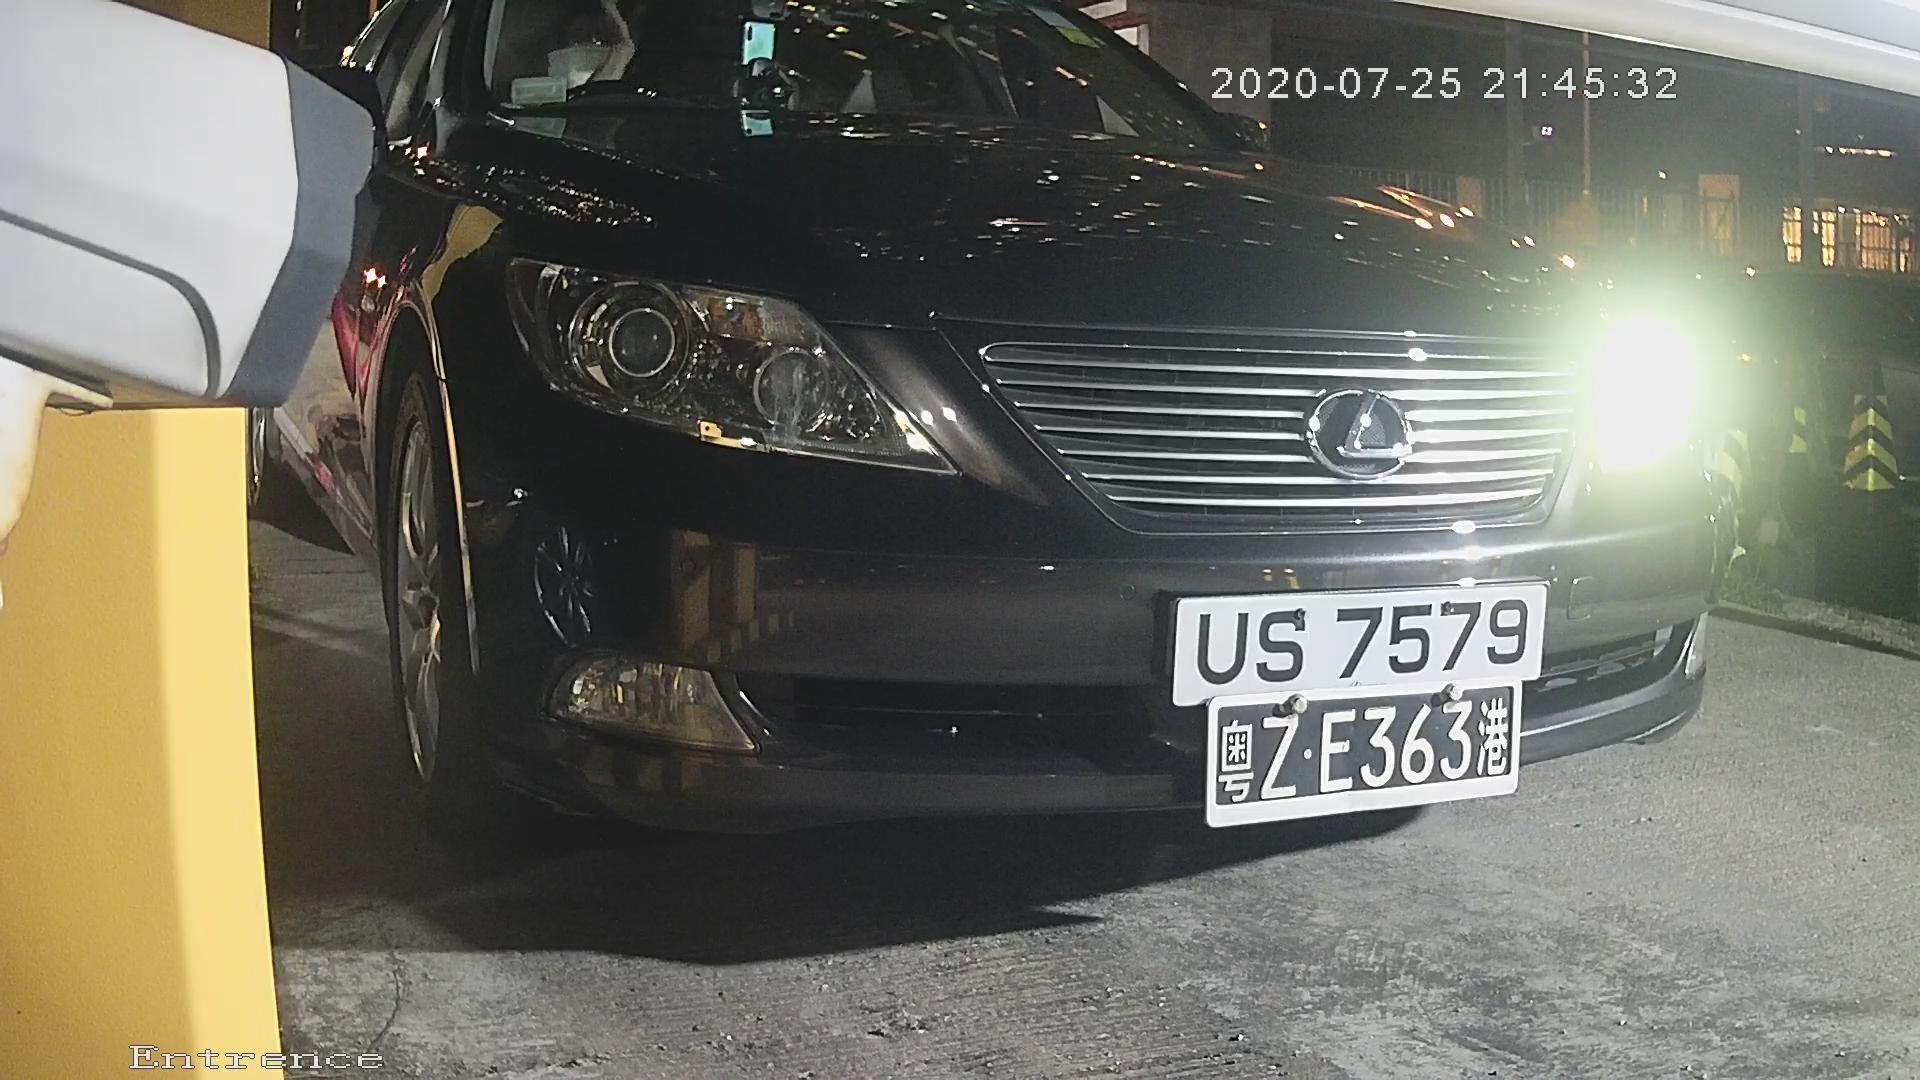Car: (43, 10, 1903, 979)
License Plate: (1158, 555, 1543, 738)
